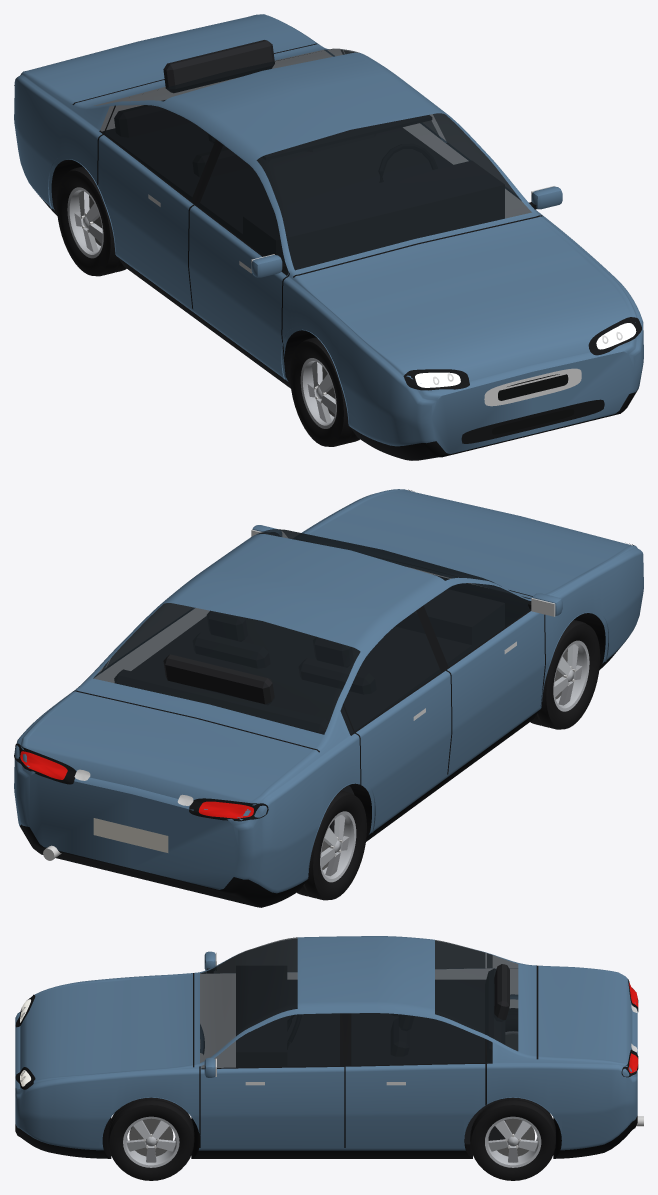
Rendered from car_sedan.glb.
3 views of the same model, one above another, from view 1: azimuth 30°, elevation 25°; view 2: azimuth 150°, elevation 25°; view 3: azimuth 270°, elevation 25° (orthographic). The views are drawn at different scales.
Parts seen in each view (by area): view 1: body, glass, interior, wheel_rr, wheel_fr, lights_head; view 2: body, glass, interior, wheel_fr, wheel_rr, lights_tail; view 3: body, glass, interior, wheel_fl, wheel_rl, lights_head, lights_tail, wheel_rr.
Part boxes in pixels (x1=…): body: x1=14, y1=14, x2=643, y2=460; glass: x1=94, y1=48, x2=531, y2=274; interior: x1=103, y1=40, x2=504, y2=274; wheel_rr: x1=56, y1=166, x2=126, y2=276; wheel_fr: x1=290, y1=337, x2=359, y2=446; lights_head: x1=403, y1=317, x2=641, y2=390; body: x1=14, y1=489, x2=643, y2=907; glass: x1=93, y1=529, x2=531, y2=734; interior: x1=114, y1=589, x2=504, y2=846; wheel_fr: x1=530, y1=620, x2=600, y2=729; wheel_rr: x1=297, y1=790, x2=366, y2=900; lights_tail: x1=14, y1=743, x2=268, y2=821; body: x1=15, y1=936, x2=643, y2=1158; glass: x1=200, y1=937, x2=518, y2=1068; interior: x1=236, y1=964, x2=509, y2=1144; wheel_fl: x1=108, y1=1097, x2=194, y2=1180; wheel_rl: x1=470, y1=1097, x2=555, y2=1180; lights_head: x1=15, y1=994, x2=35, y2=1089; lights_tail: x1=621, y1=979, x2=638, y2=1077; wheel_rr: x1=505, y1=1008, x2=517, y2=1050.
Size of what is drawn, in the model's own units: 2.15 by 1.44 by 4.91.
